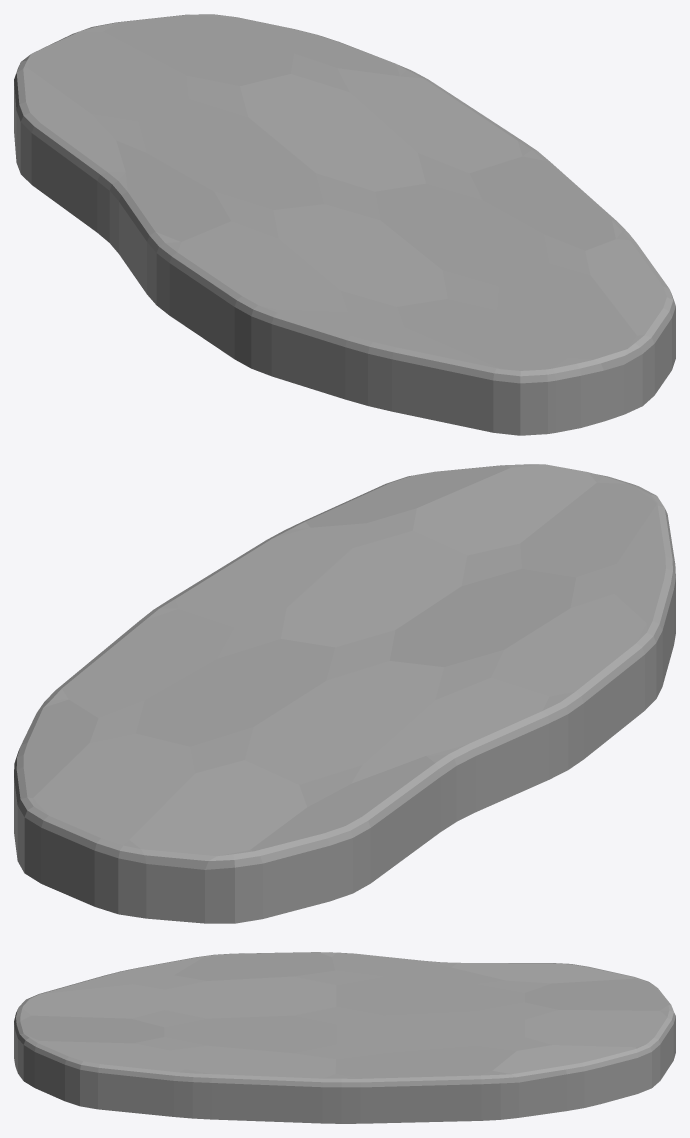
File: PathStone_3.fbx
3 renders of one model, top to bottom at view 1: azimuth 30°, elevation 25°; view 2: azimuth 150°, elevation 25°; view 3: azimuth 270°, elevation 25°, orthographic. The views are drawn at different scales.
Parts seen in each view (by area): view 1: PathStone_3; view 2: PathStone_3; view 3: PathStone_3.
Part boxes in pixels (<box>): PathStone_3: <box>14,14,675,435</box>; PathStone_3: <box>14,464,675,923</box>; PathStone_3: <box>14,952,675,1123</box>.
Bounding box in the file's own units: 6.66 × 1.11 × 14.15.
